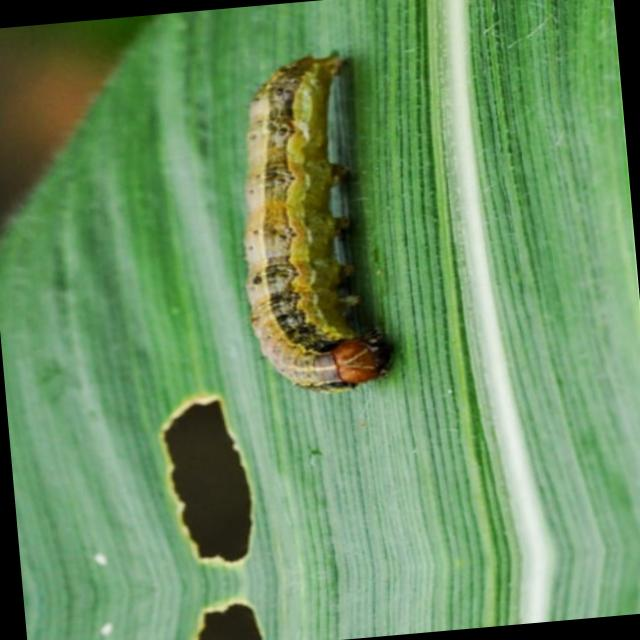Armyworm: (187, 1, 420, 417)
Armyworm_damage: (130, 379, 303, 582), (164, 590, 314, 640)
